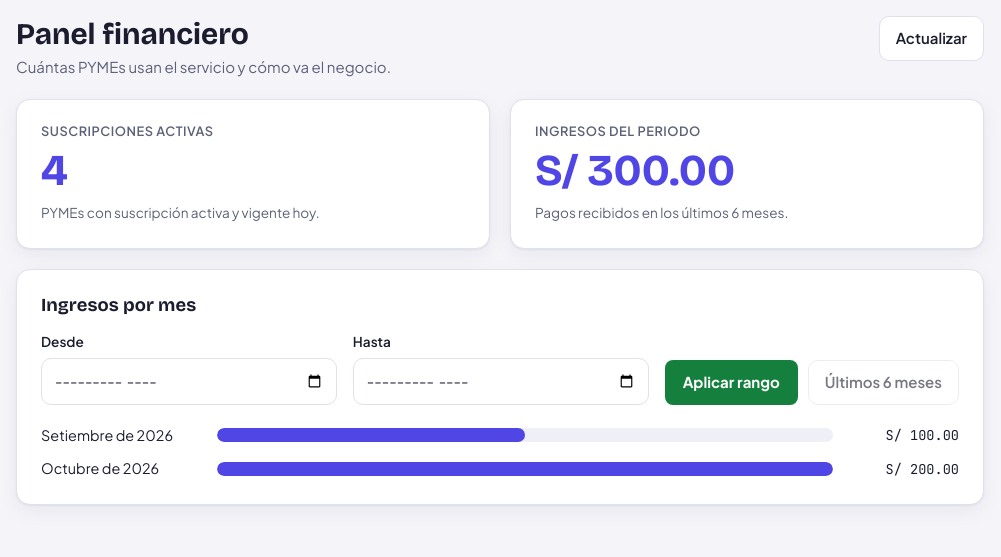
Filtro por rango de meses en el panel financiero (HU-07) › un rango válido actualiza los ingresos por mes y el total del rango
Expected: the text "octubre de 2026" is shown, [41,459,159,477]
Type "2025-01" into the field labelled "Desde".
click(189, 381); type("2025-01")  # box [41,358,337,405]
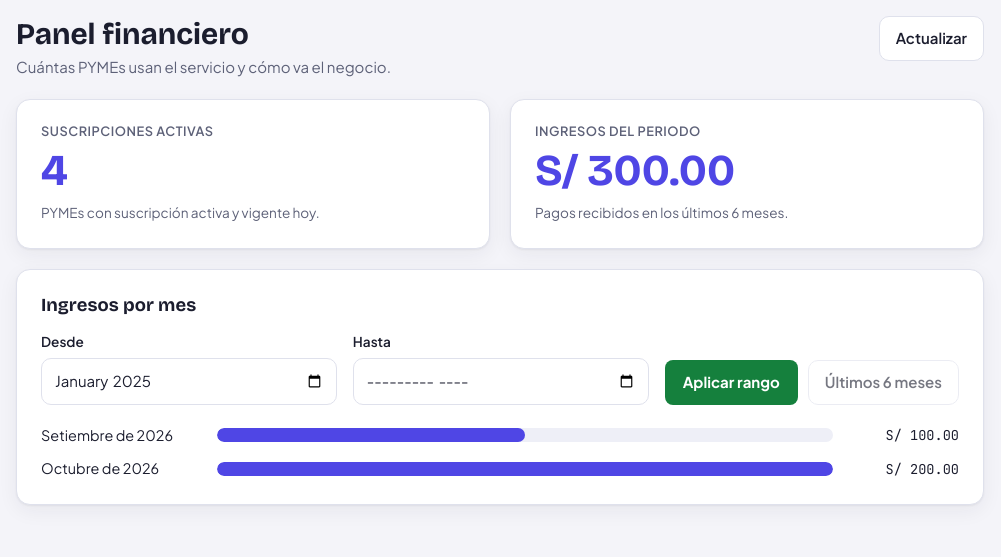
Type "2025-03" into the field labelled "Hasta".
click(501, 381); type("2025-03")  # box [353,358,649,405]
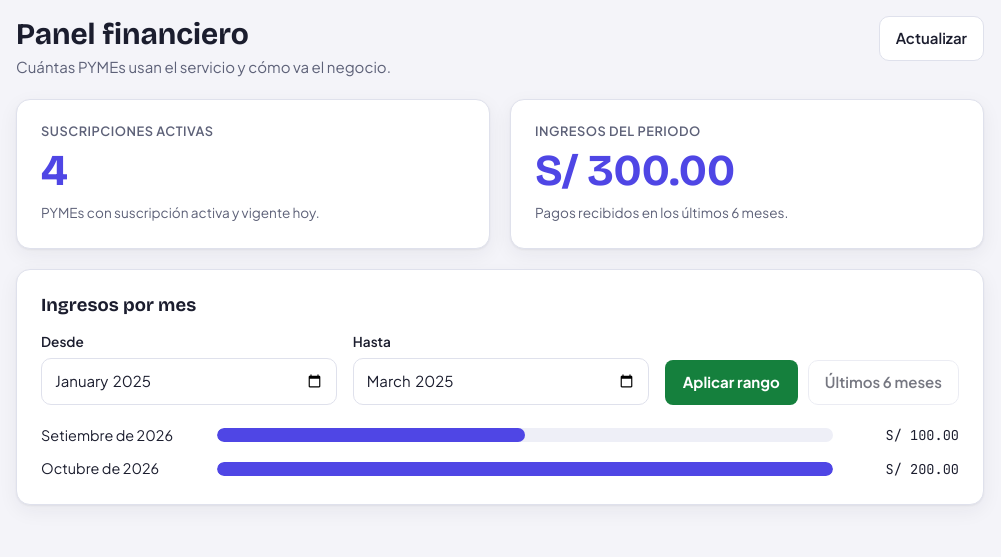
Click the button "Aplicar rango".
click(731, 382)  # box [665,360,798,405]
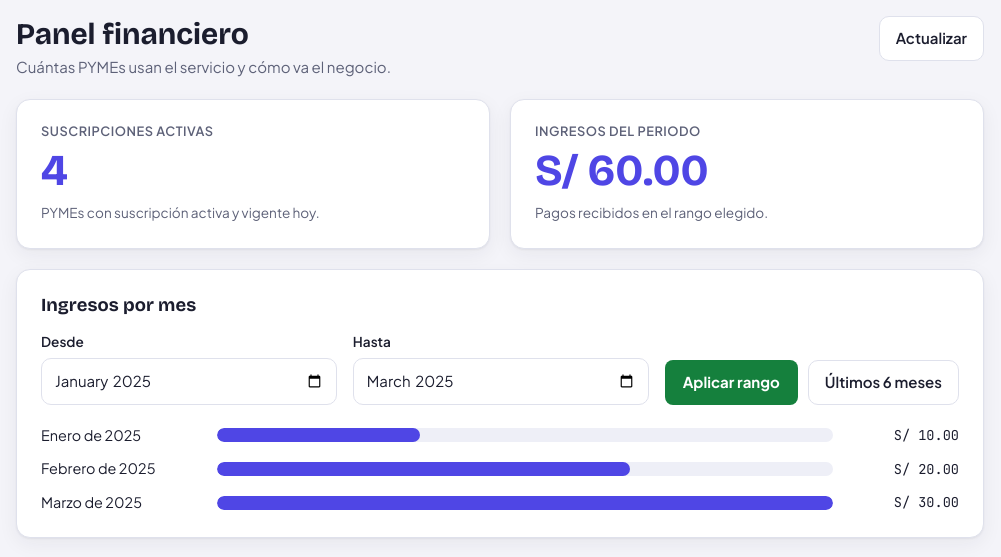
Now the text "enero de 2025" is shown, box [41,426,141,444]
Now the number of list items is 3, box [41,425,959,446]; [41,458,959,480]; [41,492,959,513]
Now the text "S/ 60.00" is shown, box [535,144,709,197]
